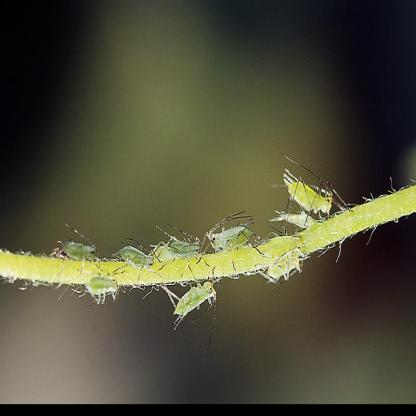aphid: (279, 162, 344, 224), (156, 265, 225, 317), (204, 214, 267, 265), (48, 226, 107, 268), (154, 226, 205, 270), (266, 241, 310, 289), (116, 234, 153, 280), (85, 266, 123, 310)
